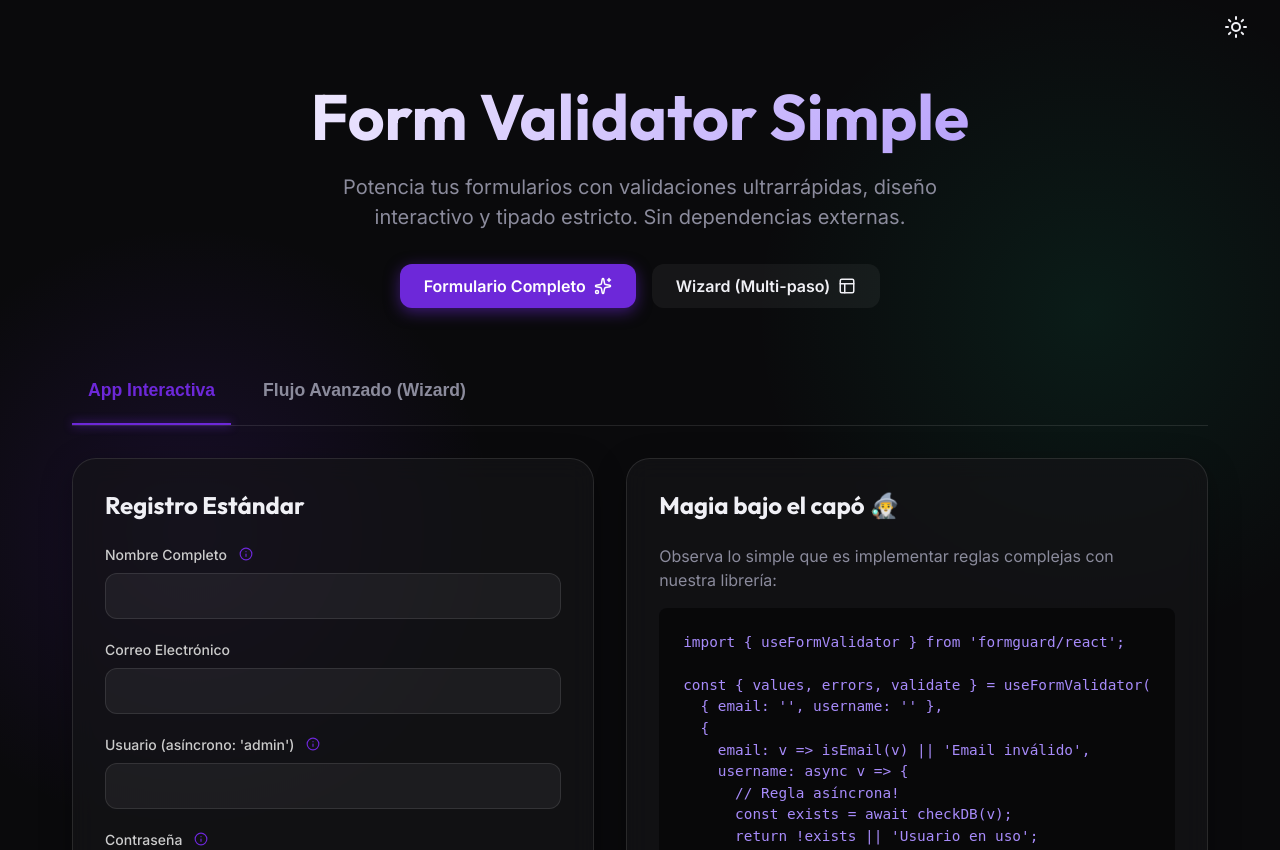
App Component › shows error when submitting empty standard form
The width and height of the screenshot is (1280, 850).
// Switch to demo tab if not already
Click the button "App Interactiva" at (152,390), box [72, 372, 231, 409]
(page scrolled)
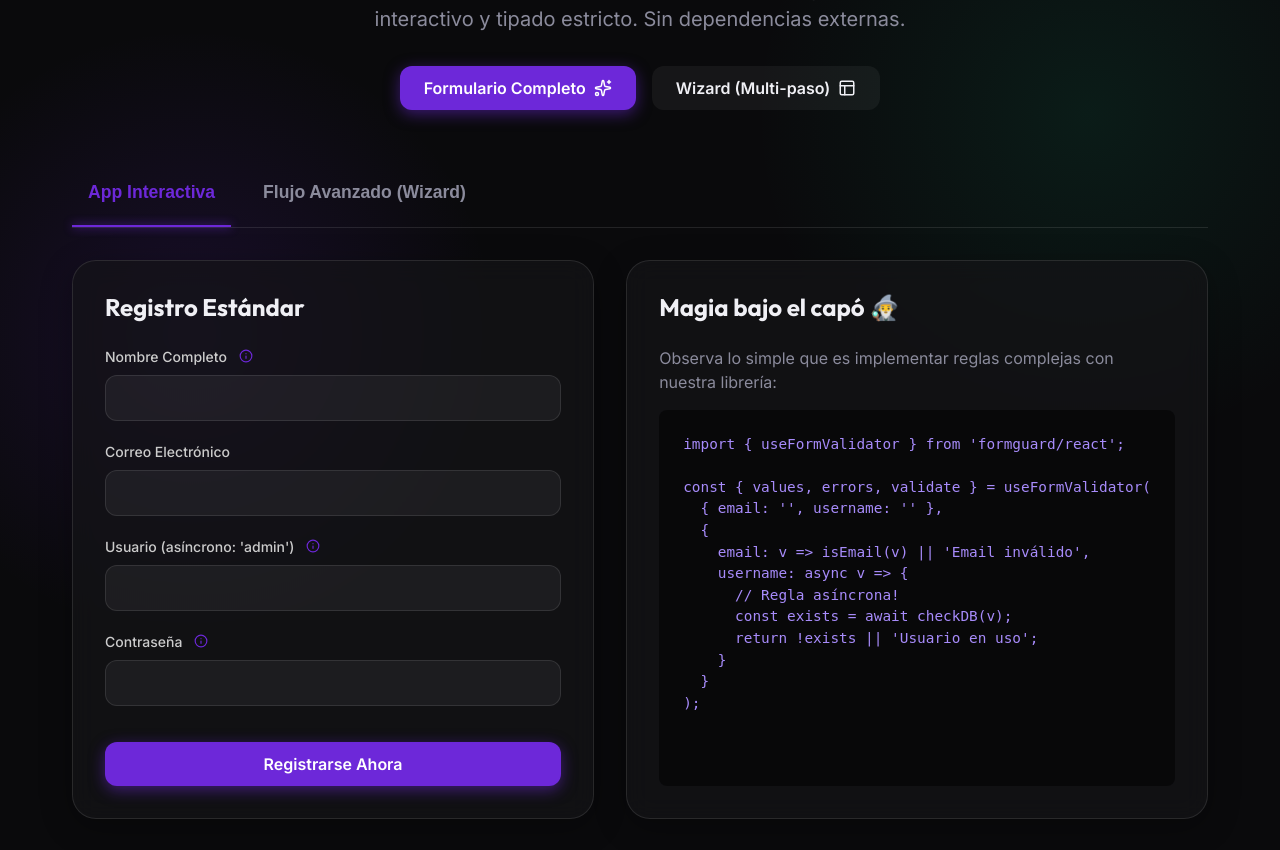
// Find the submit button
Click the button "Registrarse Ahora" at (333,764), box [105, 742, 561, 786]
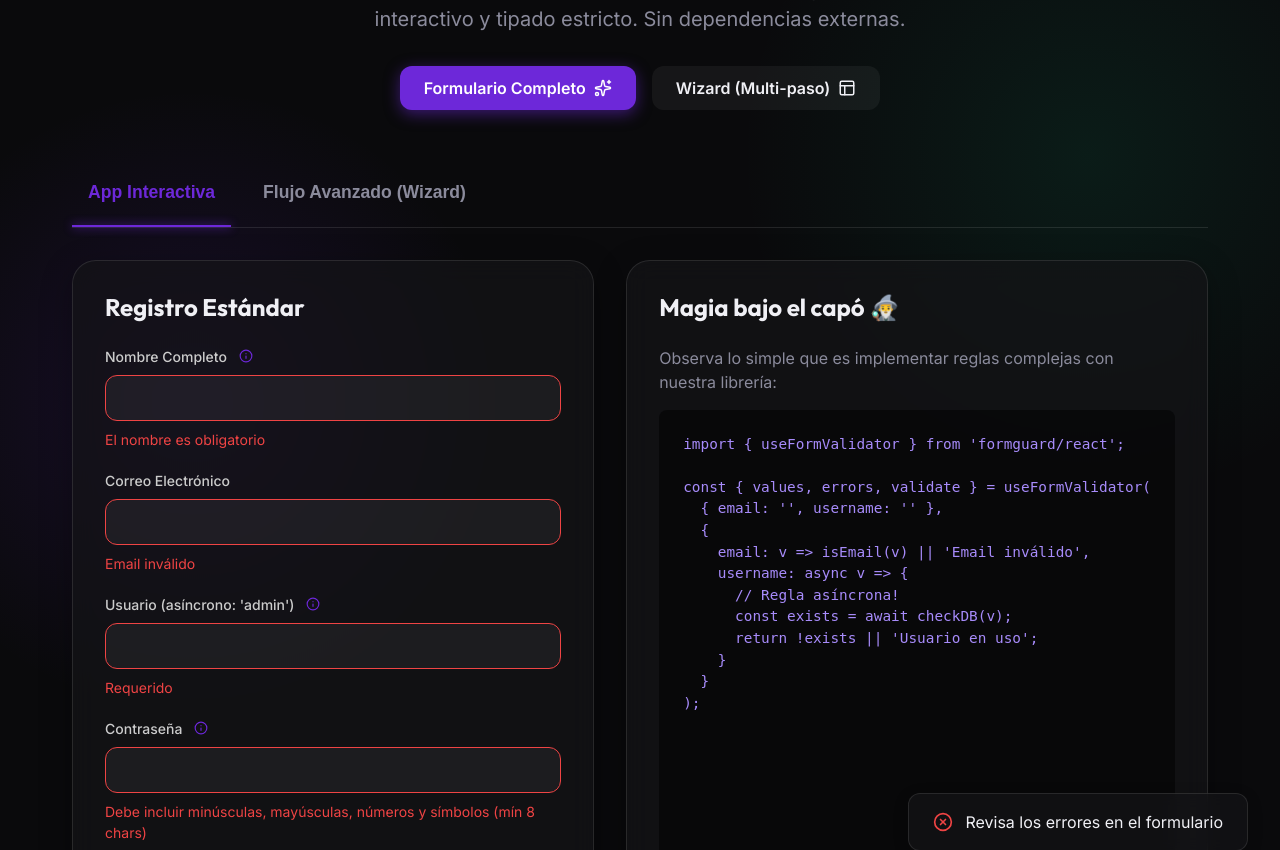
Now the text "El nombre es obligatorio" is shown, box [105, 431, 265, 448]
Now the text "Revisa los errores en el formulario" is shown, box [965, 810, 1223, 834]
